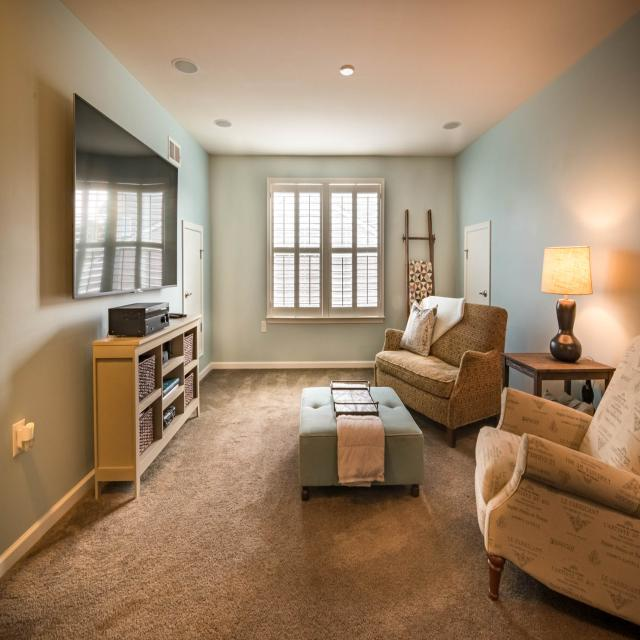floor: (0, 367, 640, 640)
wall: (453, 11, 640, 368), (209, 155, 454, 362), (73, 92, 181, 299), (266, 178, 385, 323), (508, 366, 534, 396), (591, 379, 605, 409), (542, 380, 565, 398), (571, 380, 586, 402)
